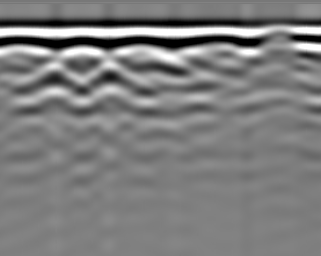pipe: (258, 26, 298, 44)
steel: (23, 62, 82, 101), (88, 66, 140, 103)
